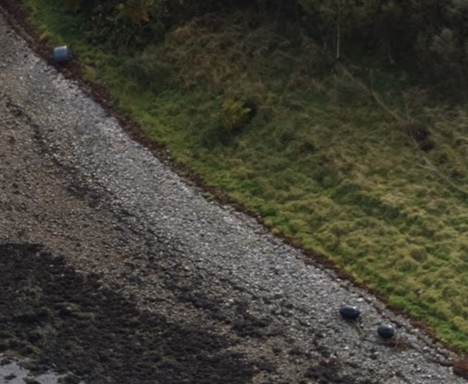white_in_green: (33, 25, 92, 78), (325, 287, 373, 333), (364, 304, 412, 350)
